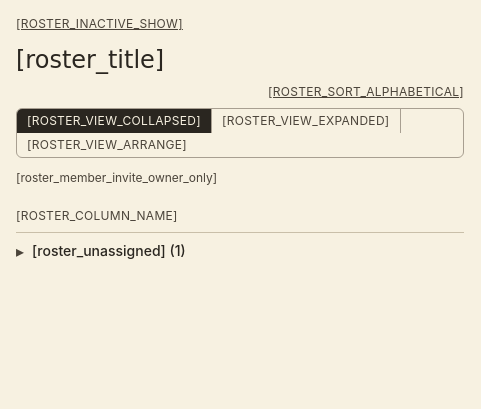
Test: #321 /roster — the partial notice › the truncation of the archived-member panel raises the SAME notice
Expected: the button with test id "section-toggle-unassigned" is shown, [16,233,464,269]
Click the button with test id "roster-inactive-toggle". click: (99, 24)
box: [16,16,183,32]
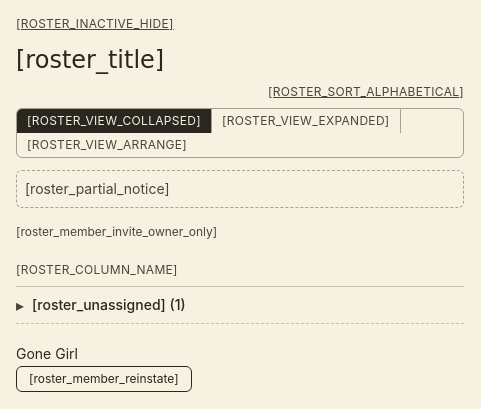
Result: the number of messages with test id "roster-partial-notice" is 1 at [16,170,464,208]
